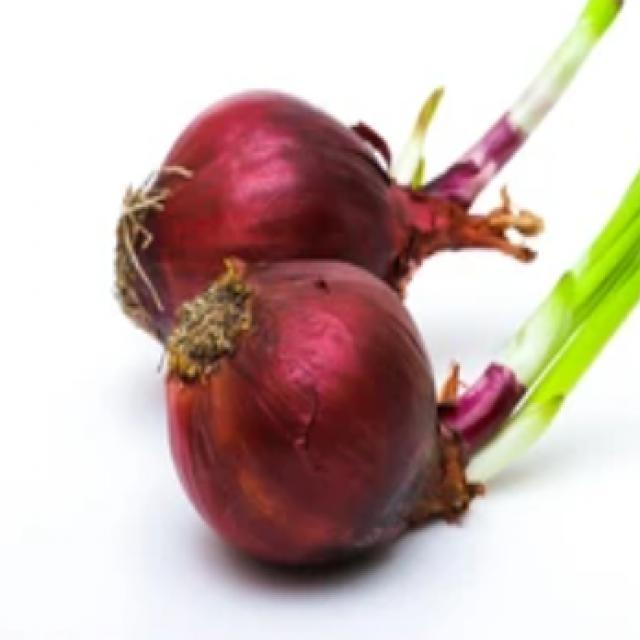sprouting: (410, 19, 596, 246), (447, 248, 626, 476)
